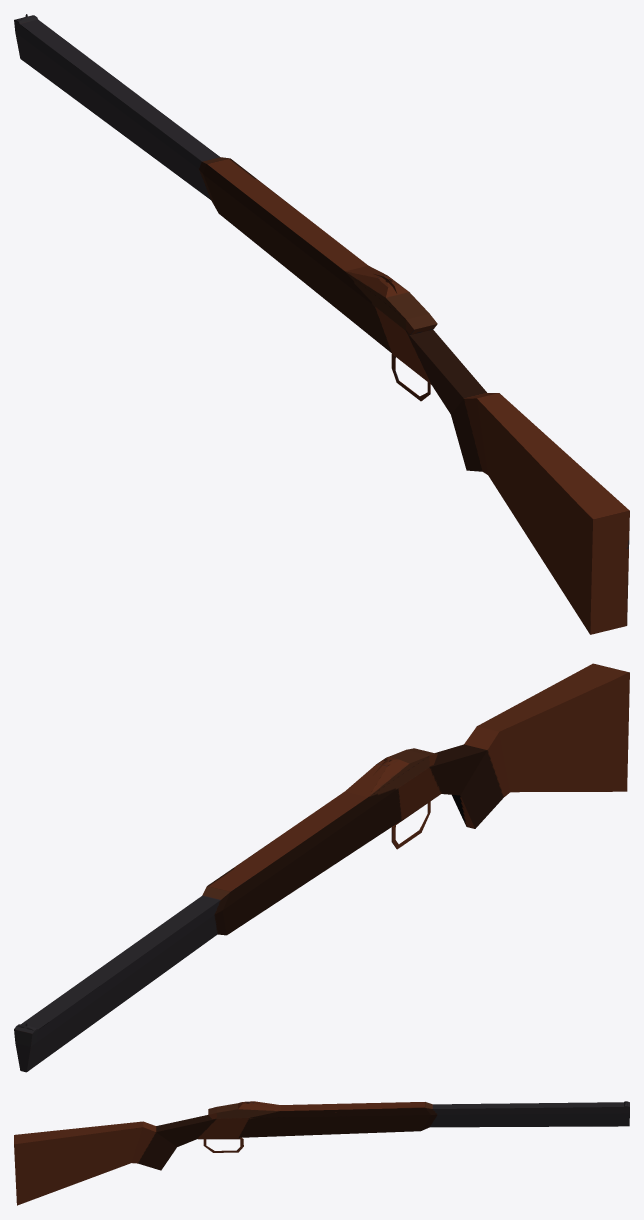
File: TOZ.fbx
3 renders of one model, top to bottom at view 1: azimuth 30°, elevation 25°; view 2: azimuth 150°, elevation 25°; view 3: azimuth 270°, elevation 25°, orthographic. The views are drawn at different scales.
Visible parts, largest first — view 1: Cube; view 2: Cube; view 3: Cube.
Part boxes in pixels (x1,y1,x2,y2): Cube: (14,14,629,634); Cube: (14,663,629,1072); Cube: (14,1101,629,1205).
Bounding box in the file's own units: 35.94 × 177 × 993.
